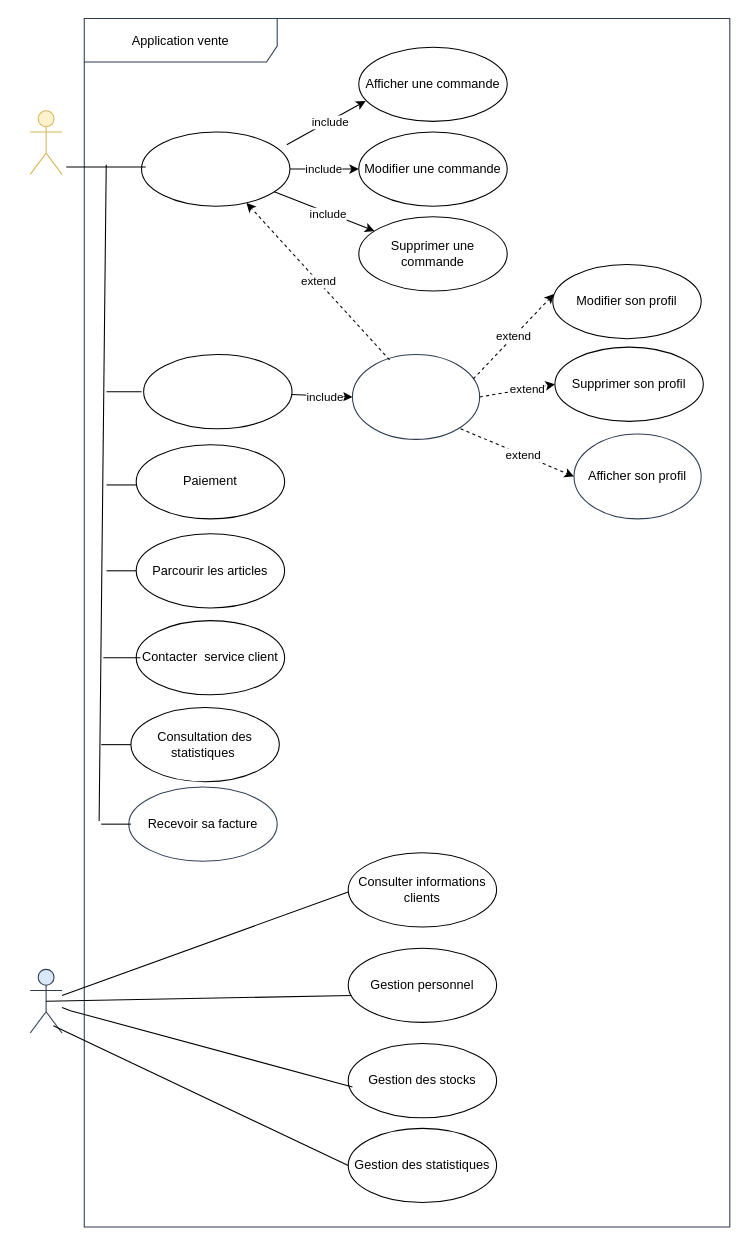
The diagram is 748 pixels wide and 1245 high, and some of its shapes have lost their labels. The centre of each missing label's shape, as x and y in pixels:
"Clients" goes at (x=45, y=142).
"Crée son profil" goes at (x=217, y=391).
"Crée une commande" goes at (x=215, y=168).
"Employés" goes at (x=45, y=1000).
"Se connecter" goes at (x=415, y=396).
